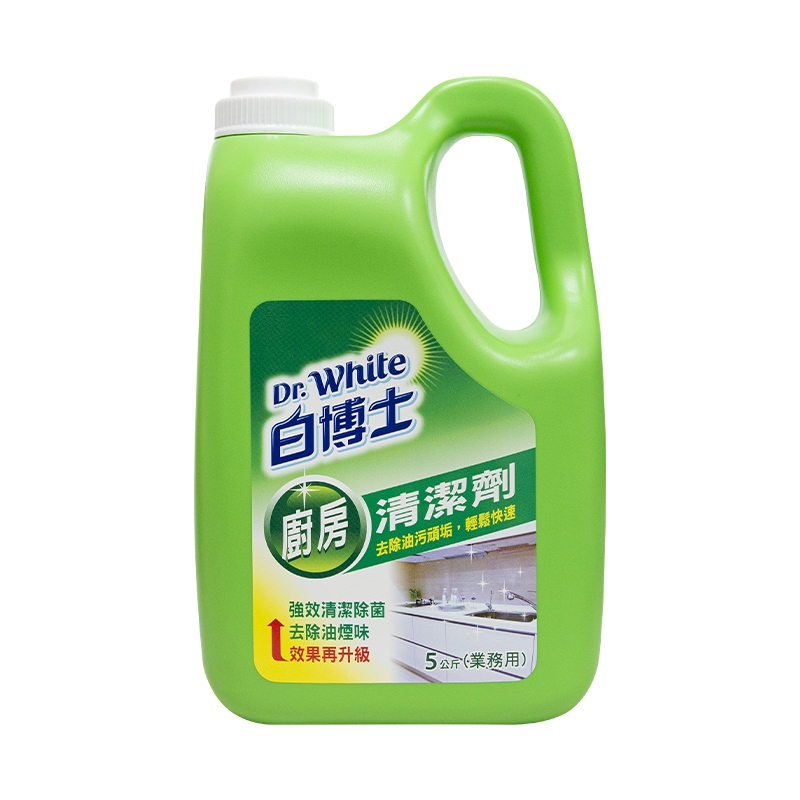cleaner: (174, 61, 636, 729)
